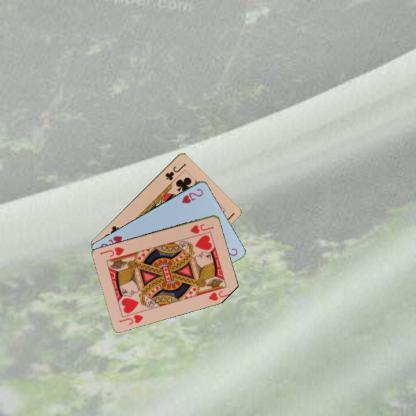2h: (180, 186, 204, 204)
Jc: (162, 160, 188, 182)
Jh: (116, 311, 145, 326), (187, 220, 215, 235)
